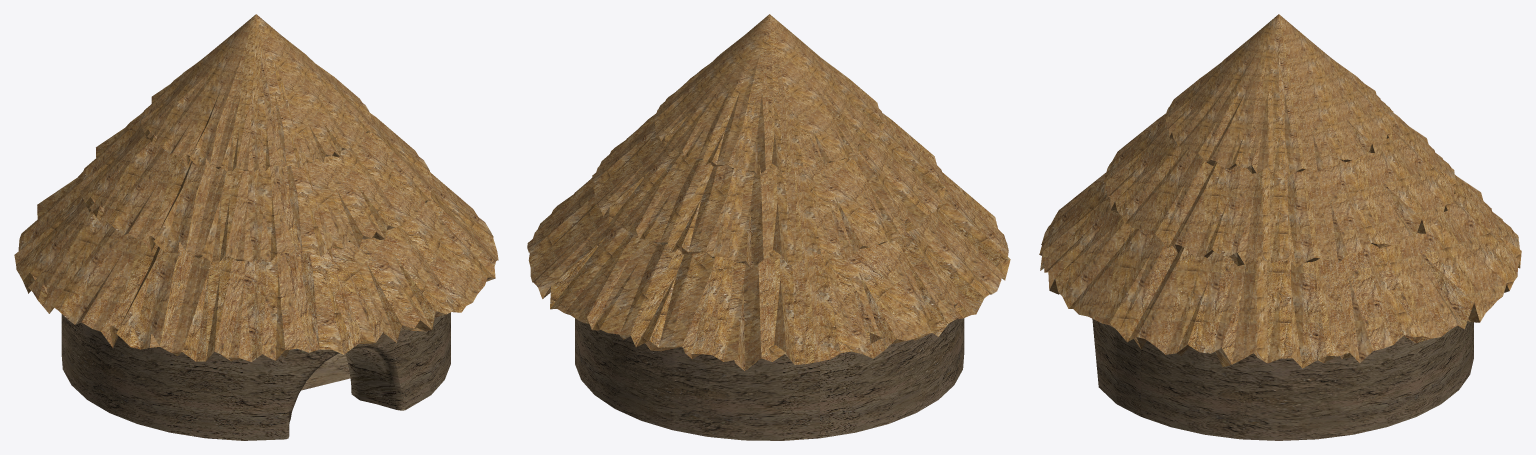
Rendered from modelNew 2.fbx.
The picture shows the model from 3 angles, left to right: view 1: azimuth 30°, elevation 25°; view 2: azimuth 150°, elevation 25°; view 3: azimuth 270°, elevation 25°; orthographic projection.
Parts seen in each view (by area): view 1: Cylinder_0, Cylinder_1; view 2: Cylinder_0, Cylinder_1; view 3: Cylinder_0, Cylinder_1.
Part boxes in pixels (<box>): Cylinder_0: <box>14,14,498,362</box>; Cylinder_1: <box>61,312,450,440</box>; Cylinder_0: <box>527,14,1010,370</box>; Cylinder_1: <box>575,318,964,440</box>; Cylinder_0: <box>1039,14,1521,368</box>; Cylinder_1: <box>1092,319,1473,440</box>.
Bounding box in the file's own units: 2794 × 2189 × 2778.
